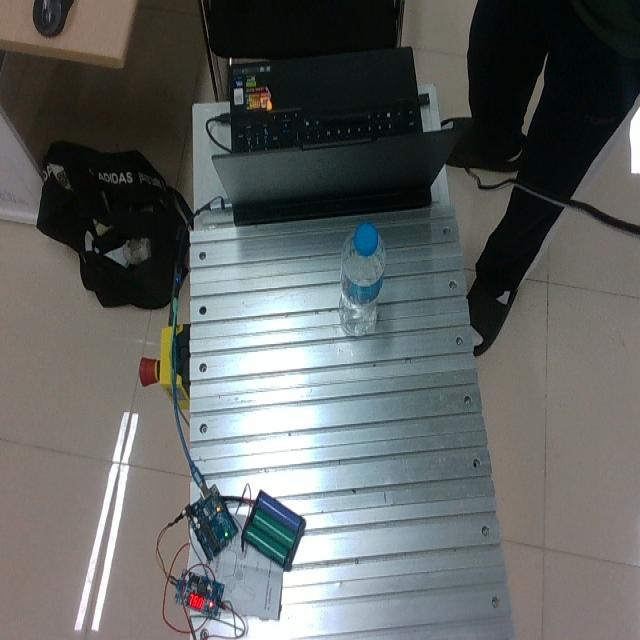lavie: (337, 224, 385, 336)
